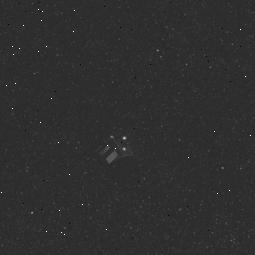proba_3_ocs: (93, 125, 140, 172)
